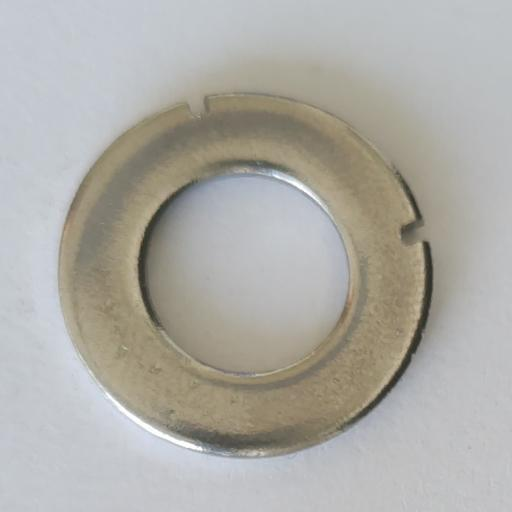burr: (400, 220, 432, 249), (187, 96, 212, 122)
